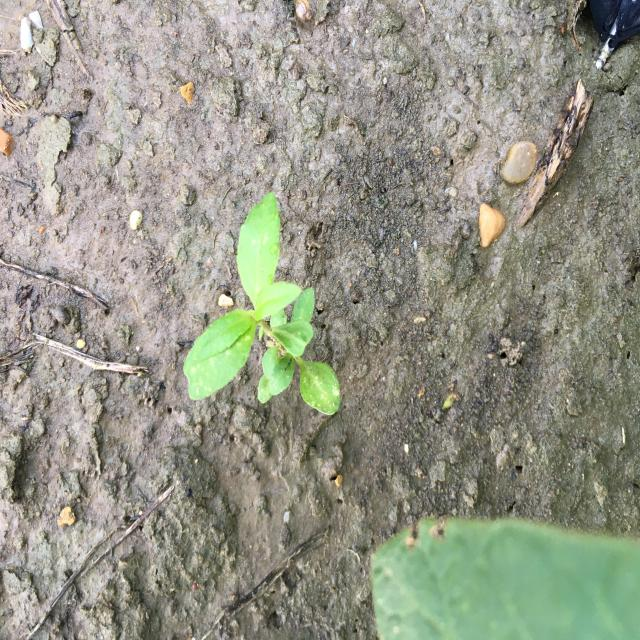Eclipta: (181, 186, 345, 423)
